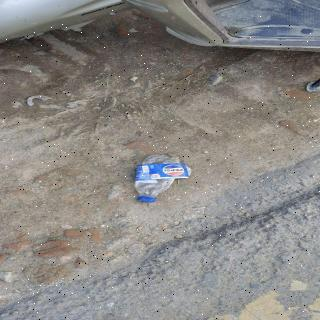Plastic-bottle: (131, 152, 199, 205)
